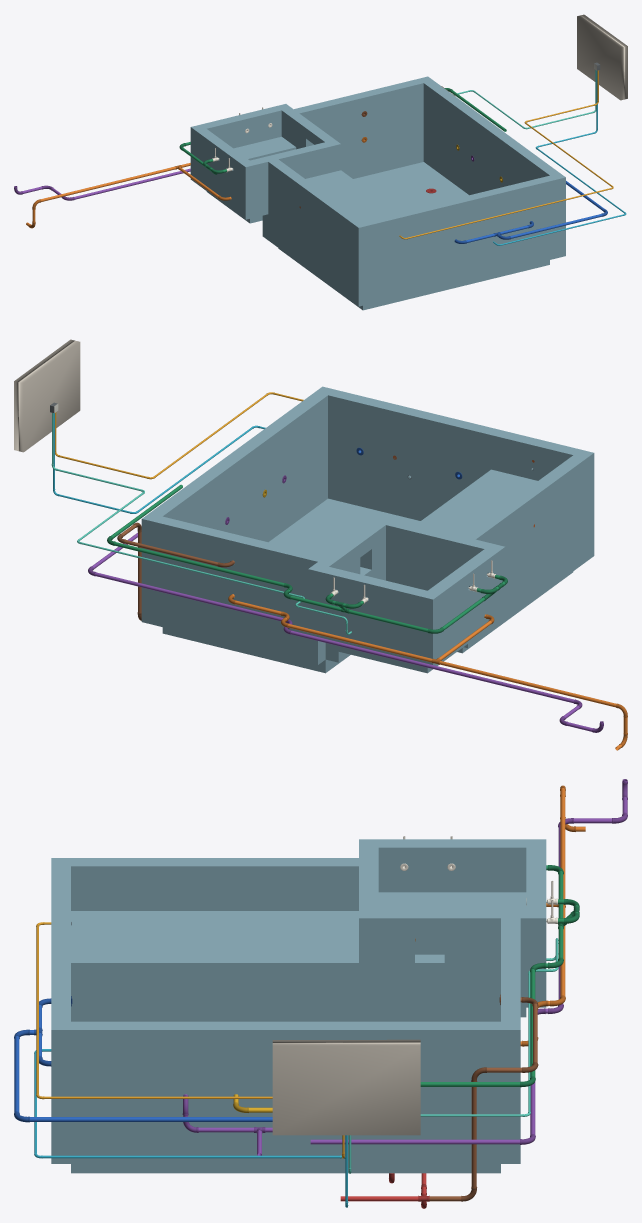
Rendered from piscina.glb.
The picture shows the model from 3 angles, top to bottom: view 1: azimuth 30°, elevation 25°; view 2: azimuth 150°, elevation 25°; view 3: azimuth 270°, elevation 25°; orthographic projection. The views are drawn at different scales.
Visible parts, largest first — view 1: Lateral direita | 200 mm, Frente | captações | 200 mm, Lateral | aspiração e aquecimento | 200 mm, Fundo | parede | 200 mm, Vaso principal | fundo 200 mm | RF1 e RF2, Muro | trecho de 1,50 m | altura 1,00 m, SPA | lateral | 200 mm, SPA | fundo | 200 mm, Superfície do vaso | referência, Encontro piscina e SPA | 200 mm, Lateral leste do SPA | 200 mm, Perna lateral | 500 mm (+3 smaller); view 2: Lateral direita | 200 mm, Lateral | aspiração e aquecimento | 200 mm, Frente | captações | 200 mm, Fundo | parede | 200 mm, SPA | lateral | 200 mm, Vaso principal | fundo 200 mm | RF1 e RF2, Muro | trecho de 1,50 m | altura 1,00 m, Encontro piscina e SPA | 200 mm, Superfície do vaso | referência (×2), SPA | fundo | 200 mm, TU-56, Passagem AB1 | direita | 200 mm (+7 smaller); view 3: Frente | captações | 200 mm, Superfície do vaso | referência, Fundo | parede | 200 mm, Muro | trecho de 1,50 m | altura 1,00 m, SPA | fundo | 200 mm, Passagem AB1 | esquerda | 200 mm, Vaso principal | fundo 200 mm | RF1 e RF2, Passagem AB1 | direita | 200 mm, Encontro piscina e SPA | 200 mm, Lateral direita | 200 mm, SPA | lateral | 200 mm, Perna de fundo | 500 mm (+9 smaller).
Boxes of the visible parts, bbox=[...] form: Lateral direita | 200 mm: bbox=[353, 175, 555, 306]; Frente | captações | 200 mm: bbox=[418, 76, 565, 258]; Lateral | aspiração e aquecimento | 200 mm: bbox=[294, 79, 423, 178]; Fundo | parede | 200 mm: bbox=[268, 159, 362, 301]; Vaso principal | fundo 200 mm | RF1 e RF2: bbox=[278, 162, 549, 310]; Muro | trecho de 1,50 m | altura 1,00 m: bbox=[577, 14, 627, 100]; SPA | lateral | 200 mm: bbox=[190, 104, 291, 183]; SPA | fundo | 200 mm: bbox=[196, 129, 249, 215]; Superfície do vaso | referência: bbox=[305, 170, 398, 220]; Encontro piscina e SPA | 200 mm: bbox=[262, 140, 340, 239]; Lateral leste do SPA | 200 mm: bbox=[240, 157, 268, 219]; Perna lateral | 500 mm: bbox=[233, 136, 296, 160]; Lateral direita | 200 mm: bbox=[328, 390, 594, 560]; Lateral | aspiração e aquecimento | 200 mm: bbox=[155, 516, 325, 664]; Frente | captações | 200 mm: bbox=[141, 386, 335, 625]; Fundo | parede | 200 mm: bbox=[463, 455, 586, 642]; SPA | lateral | 200 mm: bbox=[308, 563, 440, 665]; Vaso principal | fundo 200 mm | RF1 e RF2: bbox=[162, 498, 573, 673]; Muro | trecho de 1,50 m | altura 1,00 m: bbox=[14, 339, 80, 452]; Encontro piscina e SPA | 200 mm: bbox=[373, 516, 475, 648]; Superfície do vaso | referência (×2): bbox=[329, 469, 537, 673]; SPA | fundo | 200 mm: bbox=[428, 549, 497, 661]; TU-56: bbox=[290, 630, 574, 703]; Passagem AB1 | direita | 200 mm: bbox=[359, 522, 385, 580]; Frente | captações | 200 mm: bbox=[51, 1021, 520, 1163]; Superfície do vaso | referência: bbox=[71, 911, 358, 1021]; Fundo | parede | 200 mm: bbox=[71, 858, 358, 910]; Muro | trecho de 1,50 m | altura 1,00 m: bbox=[272, 1039, 420, 1135]; SPA | fundo | 200 mm: bbox=[378, 839, 526, 892]; Passagem AB1 | esquerda | 200 mm: bbox=[444, 910, 500, 1021]; Vaso principal | fundo 200 mm | RF1 e RF2: bbox=[71, 1164, 500, 1173]; Passagem AB1 | direita | 200 mm: bbox=[378, 910, 414, 1021]; Encontro piscina e SPA | 200 mm: bbox=[359, 858, 378, 1021]; Lateral direita | 200 mm: bbox=[51, 858, 70, 1021]; SPA | lateral | 200 mm: bbox=[526, 839, 546, 1007]; Perna de fundo | 500 mm: bbox=[378, 892, 477, 954].
Size of the model in its own units: 10.17 by 3.08 by 6.23.
